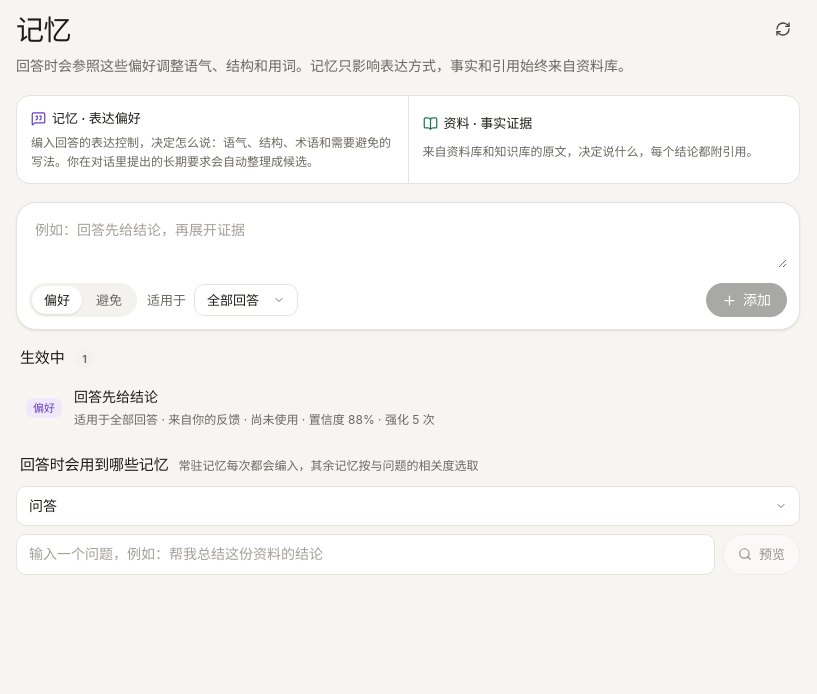
MemoryReviewWorkbench › 生效记忆展示置信度和强化次数，并能预览某个问题会编入哪些记忆
Expected: the text "适用于全部回答 · 来自你的反馈 · 尚未使用 · 置信度 88% · 强化 5 次" is shown, [74,412,435,427]
Step 1. Select "精读" in the dropdown named "回答模式" → (408, 506), box [16,486,800,526]
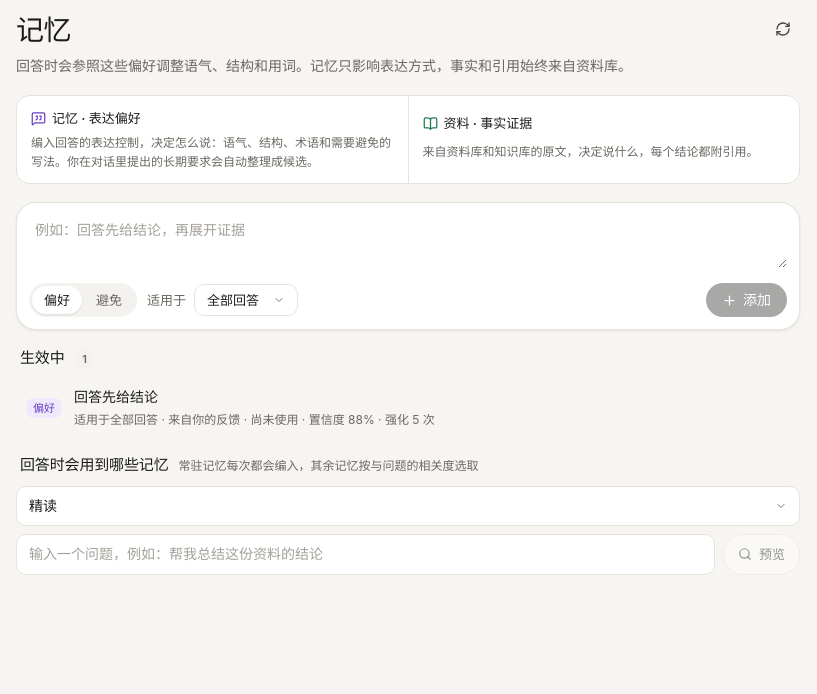
Step 2. Type "第 3 页讲了什么" into the field named "预览用的问题" → (366, 554), box [16,534,715,575]
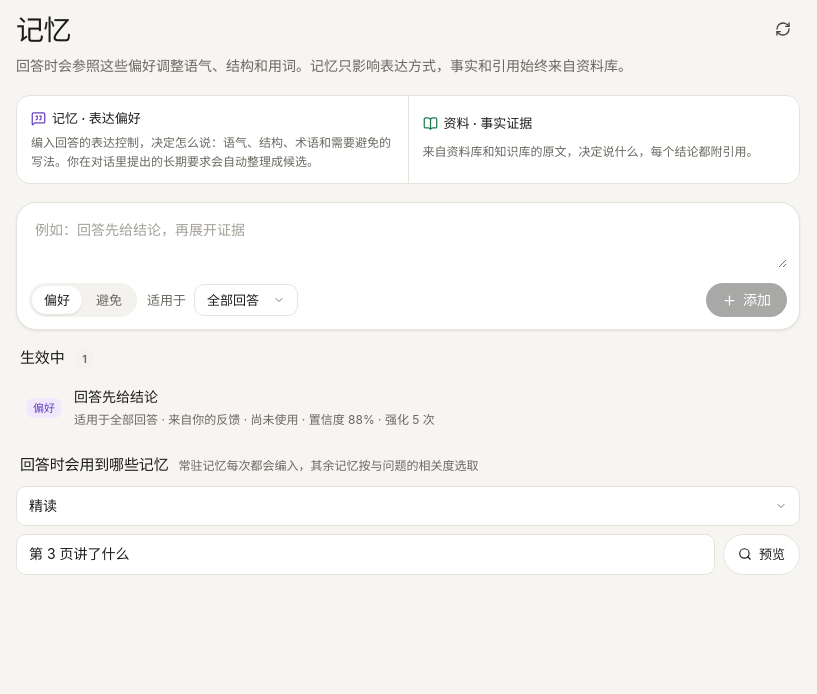
Step 3. Click the button "预览" → (762, 554), box [723,534,800,575]
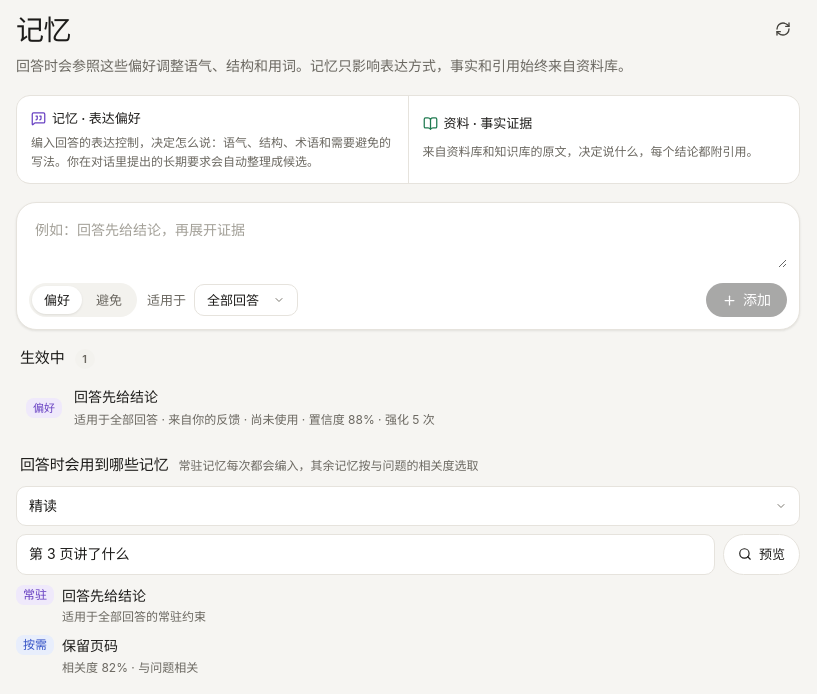
Expected: the text "回答先给结论" below "回答时会用到哪些记忆" is shown, [62,586,146,604]
Expected: the text "常驻" is shown, [16,584,54,604]
Expected: the text "相关度 82% · 与问题相关" is shown, [62,658,198,677]
